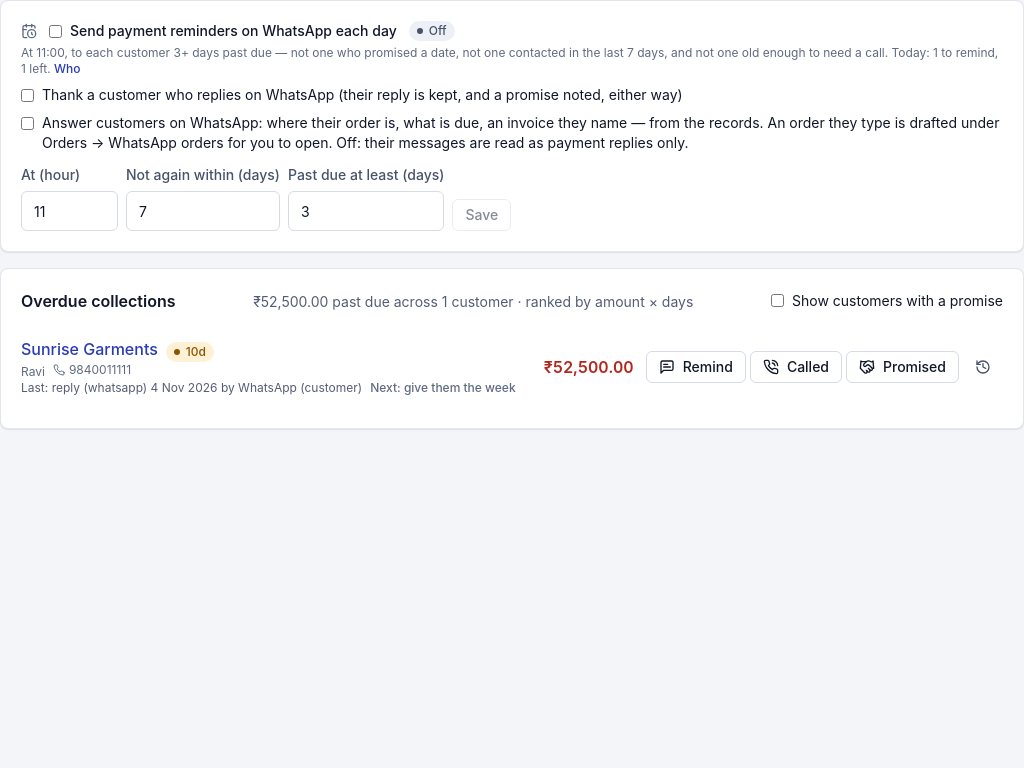
Test: a customer's reply › shows in their history as they wrote it
This screenshot has width=1024, height=768.
Expected: the link "Sunrise Garments" is shown, [21,339,158,359]
What coordinates should you click on to do the following:
click the button named "history"
I would click on:
 (983, 366)
Its box is [963,350,1003,382].
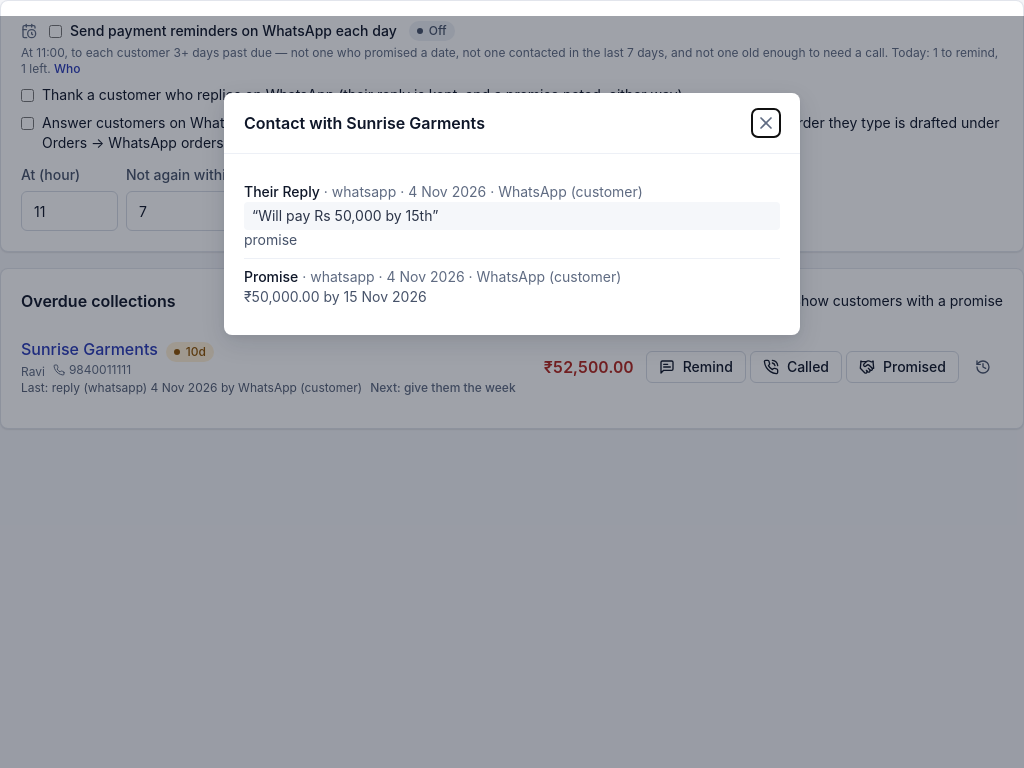
Now the text "Their reply" is shown, box [244,183,320,200]
Now the dialog shows "“Will pay Rs 50,000 by 15th”"
Now the dialog shows "₹50,000.00 by"
